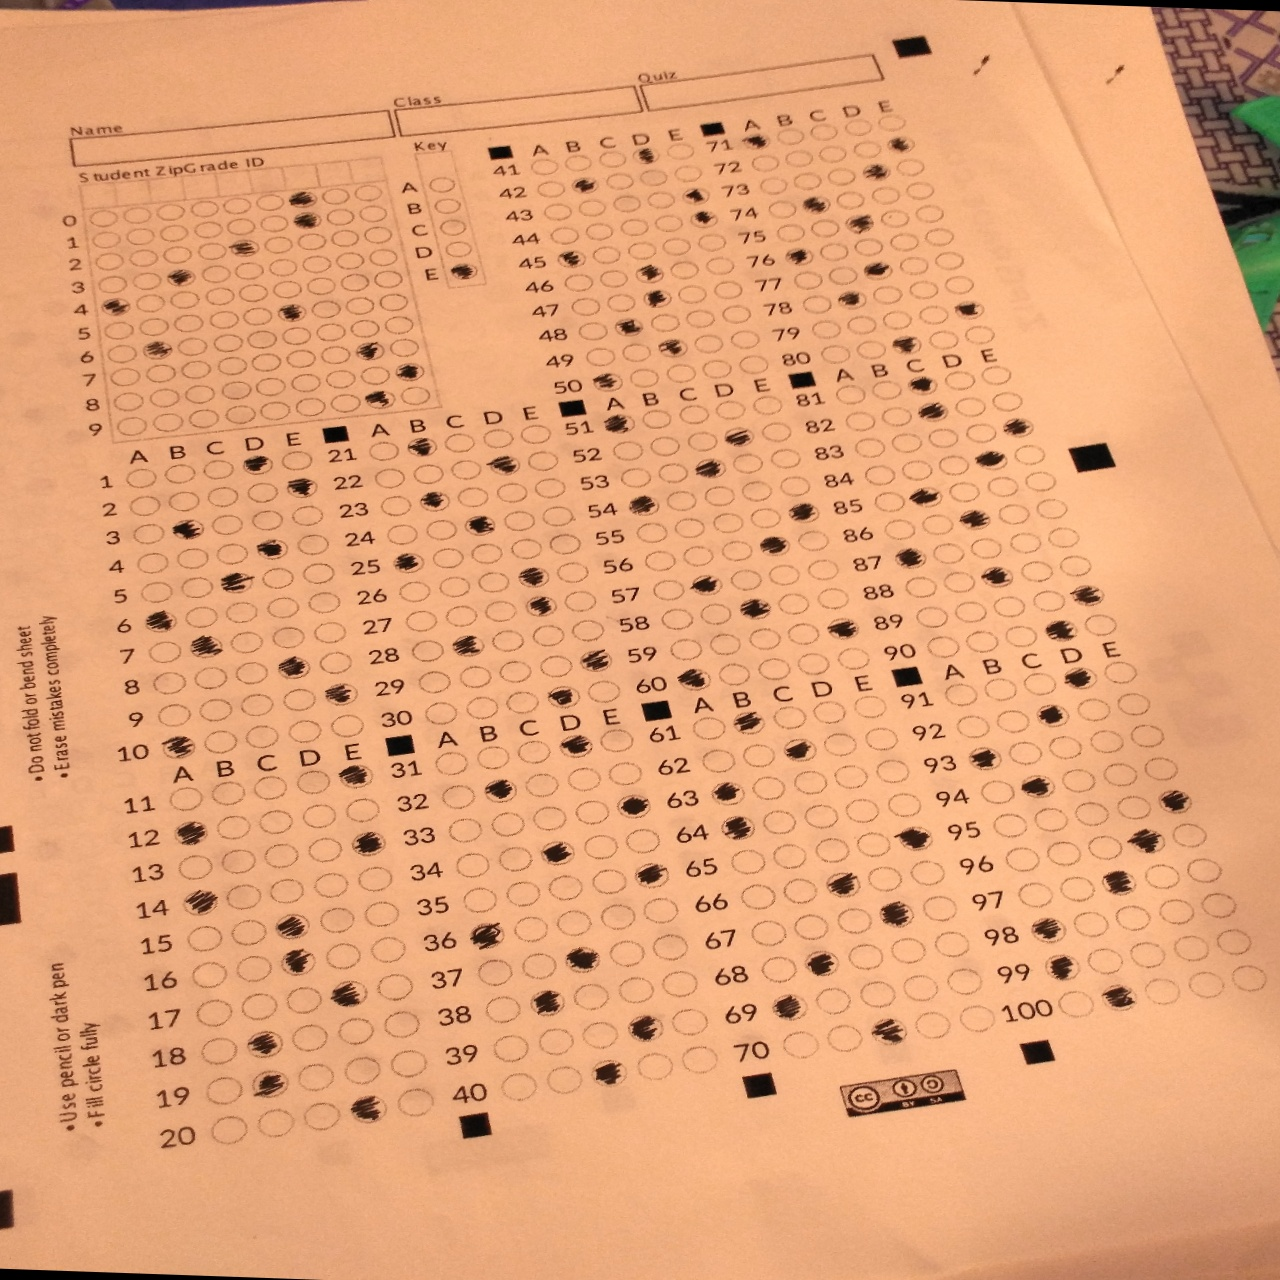not-c: (606, 938, 649, 969), (614, 973, 658, 1005), (536, 1026, 579, 1057), (668, 1006, 712, 1037), (293, 1061, 336, 1092), (184, 922, 227, 954), (333, 1016, 377, 1047), (649, 932, 692, 964), (568, 980, 611, 1012), (394, 1085, 436, 1117), (238, 992, 280, 1023), (207, 1115, 250, 1146), (188, 959, 230, 990), (222, 881, 264, 913), (304, 836, 346, 867), (297, 801, 339, 832), (248, 772, 291, 804), (293, 765, 335, 797), (659, 968, 702, 999), (489, 1033, 532, 1063), (679, 1044, 722, 1075), (388, 1049, 431, 1080), (379, 1009, 422, 1040), (374, 971, 417, 1001), (360, 899, 403, 930), (354, 865, 397, 896), (217, 847, 260, 878), (163, 784, 206, 815), (856, 979, 899, 1009), (942, 967, 986, 998), (316, 903, 358, 934), (256, 1108, 297, 1139), (256, 806, 297, 838), (579, 1020, 621, 1050), (634, 1051, 676, 1082), (542, 1064, 584, 1095), (496, 1071, 538, 1102), (309, 869, 352, 899), (282, 985, 325, 1015), (342, 1056, 384, 1087), (301, 1099, 343, 1130), (204, 1076, 246, 1107), (229, 918, 271, 948), (266, 874, 308, 905), (261, 840, 304, 871), (1170, 932, 1212, 962), (812, 986, 855, 1016), (930, 930, 972, 960), (747, 917, 789, 947), (790, 912, 832, 942), (1185, 969, 1228, 999), (1141, 976, 1184, 1006), (844, 942, 887, 972), (324, 940, 365, 971), (195, 999, 236, 1029), (234, 953, 275, 983), (1126, 939, 1167, 969), (908, 858, 949, 888), (481, 995, 523, 1024), (366, 935, 408, 965), (290, 1023, 332, 1053), (197, 1036, 239, 1065), (342, 797, 384, 826), (211, 812, 253, 842), (1084, 946, 1126, 975), (1227, 964, 1269, 993), (956, 1003, 999, 1033), (822, 1024, 864, 1054), (779, 1030, 822, 1060), (899, 973, 941, 1002), (757, 954, 799, 983), (919, 894, 961, 924), (864, 863, 906, 892), (911, 1012, 954, 1040), (597, 726, 636, 756), (173, 852, 215, 881), (207, 779, 248, 809), (1054, 988, 1095, 1017), (835, 907, 876, 937), (887, 935, 930, 964), (641, 896, 680, 926), (461, 885, 501, 914), (779, 877, 821, 905), (850, 693, 891, 721), (504, 878, 542, 908), (474, 743, 512, 772), (515, 738, 553, 768), (522, 770, 560, 799), (530, 804, 568, 833), (573, 798, 612, 828), (519, 951, 558, 980), (588, 867, 628, 896), (564, 765, 604, 794), (1032, 806, 1071, 835), (990, 812, 1030, 840), (1003, 845, 1043, 873), (1142, 863, 1182, 891), (1057, 874, 1097, 903), (883, 791, 922, 819), (873, 758, 913, 787), (740, 742, 779, 770), (1112, 795, 1153, 822), (1156, 898, 1197, 925), (799, 803, 840, 830), (769, 704, 810, 731), (547, 873, 585, 903), (496, 845, 535, 873), (489, 810, 527, 838), (583, 833, 621, 862), (605, 760, 644, 788), (599, 903, 638, 931), (476, 958, 515, 986), (749, 774, 788, 802), (622, 828, 662, 855), (1099, 761, 1139, 788), (1073, 801, 1112, 828), (978, 779, 1017, 806), (1043, 840, 1083, 867), (1169, 821, 1208, 847), (1014, 881, 1054, 908), (1070, 911, 1110, 938), (770, 843, 810, 870), (812, 837, 852, 864), (855, 831, 894, 858), (760, 809, 799, 836), (862, 726, 901, 753), (699, 747, 738, 774), (689, 715, 729, 742), (810, 699, 850, 726), (1141, 755, 1182, 781), (964, 628, 1001, 656), (1002, 622, 1040, 651), (707, 629, 744, 658), (745, 625, 783, 653), (554, 908, 592, 937), (513, 915, 551, 944), (659, 607, 697, 634), (1058, 767, 1097, 794), (1184, 856, 1223, 883), (790, 768, 829, 795), (941, 681, 981, 707), (1085, 728, 1125, 754), (1084, 835, 1124, 860), (1114, 904, 1153, 930), (1199, 892, 1239, 918), (738, 883, 778, 908), (729, 849, 769, 874), (842, 798, 881, 824), (831, 763, 871, 789), (756, 656, 794, 683), (715, 660, 753, 687), (765, 561, 803, 588), (475, 568, 512, 595), (530, 622, 567, 649), (285, 719, 322, 745), (237, 692, 274, 719), (318, 651, 355, 678), (401, 608, 440, 634), (268, 625, 307, 651), (148, 640, 186, 666), (305, 590, 343, 615), (1020, 670, 1058, 696), (1128, 722, 1166, 748), (1216, 928, 1254, 954), (821, 731, 859, 757), (1073, 697, 1112, 722), (835, 645, 871, 672), (668, 636, 704, 663), (663, 486, 700, 513), (479, 425, 516, 452), (383, 522, 420, 549), (457, 663, 493, 690), (925, 633, 962, 659), (795, 652, 832, 678), (784, 621, 822, 647), (815, 586, 852, 612), (796, 527, 833, 553), (640, 549, 678, 574), (719, 539, 756, 565), (709, 511, 747, 537), (775, 474, 812, 499), (672, 515, 709, 540), (633, 520, 670, 546), (654, 461, 692, 486), (645, 433, 682, 458), (767, 445, 804, 471), (712, 396, 749, 422), (639, 406, 676, 431), (365, 438, 402, 464), (447, 457, 484, 483), (493, 481, 531, 506), (455, 484, 492, 510), (546, 531, 584, 557), (508, 536, 545, 561), (468, 542, 505, 567), (429, 544, 467, 570), (435, 574, 472, 600), (443, 602, 481, 628), (503, 690, 540, 716), (481, 600, 518, 626), (570, 618, 607, 644), (311, 619, 348, 645), (229, 629, 266, 655), (184, 604, 222, 629), (223, 600, 260, 626), (263, 595, 300, 621), (301, 560, 339, 586), (136, 550, 173, 576), (130, 520, 168, 546), (125, 493, 163, 519), (121, 465, 158, 491), (161, 461, 198, 486), (207, 513, 245, 539), (204, 484, 241, 510), (279, 448, 316, 474), (248, 508, 286, 533), (447, 817, 484, 843), (455, 852, 492, 878), (1114, 692, 1152, 716), (981, 676, 1020, 701), (953, 714, 992, 738), (993, 709, 1032, 734), (1046, 735, 1084, 760), (697, 600, 734, 626), (805, 557, 842, 583), (651, 578, 687, 604), (729, 452, 765, 478), (617, 465, 653, 491), (683, 429, 720, 455), (757, 420, 794, 445), (750, 393, 787, 418), (675, 401, 712, 427), (518, 421, 554, 447), (409, 461, 445, 486), (501, 509, 537, 535), (539, 504, 576, 530), (561, 588, 598, 614), (586, 679, 622, 704), (410, 638, 447, 663), (192, 666, 229, 692), (178, 576, 215, 601), (165, 489, 202, 515), (173, 545, 210, 571), (213, 542, 250, 567), (290, 502, 326, 527), (295, 532, 332, 558), (775, 592, 812, 617), (727, 567, 764, 592), (679, 544, 716, 568), (701, 484, 738, 509), (738, 479, 776, 504), (747, 506, 784, 531), (610, 440, 647, 464), (441, 430, 478, 455), (524, 449, 561, 474), (531, 477, 568, 502), (377, 493, 415, 518), (397, 579, 435, 604), (463, 694, 501, 719), (497, 660, 535, 685), (490, 629, 527, 654), (538, 654, 576, 679), (415, 669, 452, 694), (280, 688, 318, 713), (243, 726, 280, 750), (202, 730, 239, 755), (196, 697, 233, 722), (151, 670, 189, 695), (155, 704, 192, 729), (139, 579, 177, 604), (241, 479, 279, 504), (440, 783, 477, 808), (1005, 741, 1042, 765), (926, 425, 961, 451), (941, 570, 976, 595), (985, 475, 1021, 499), (903, 574, 939, 599), (1083, 612, 1119, 636), (372, 465, 408, 490), (424, 518, 461, 543), (554, 560, 591, 585), (423, 701, 459, 726), (329, 714, 366, 738), (233, 662, 270, 687), (260, 566, 297, 591), (200, 456, 237, 481), (433, 750, 469, 775), (937, 454, 971, 479), (318, 343, 353, 368), (1034, 496, 1069, 520), (888, 431, 924, 456), (869, 379, 904, 403), (833, 382, 869, 407), (842, 408, 877, 433), (878, 406, 913, 430), (953, 599, 988, 624), (992, 595, 1027, 620), (1032, 588, 1067, 613), (914, 604, 949, 628), (1101, 660, 1136, 685), (818, 341, 855, 365), (979, 363, 1015, 387), (930, 540, 966, 564), (946, 481, 982, 504), (900, 458, 937, 482), (952, 396, 988, 420), (862, 462, 896, 486), (347, 316, 382, 340), (617, 217, 652, 240), (574, 196, 610, 219), (869, 282, 904, 306), (1022, 470, 1057, 493), (1044, 525, 1080, 549), (881, 518, 917, 542), (996, 502, 1032, 525), (852, 436, 887, 459), (964, 422, 999, 445), (942, 368, 978, 392), (1012, 444, 1048, 467), (1017, 560, 1054, 583), (919, 513, 955, 536), (108, 366, 142, 389), (253, 375, 287, 399), (688, 207, 722, 231), (710, 279, 744, 302), (719, 302, 753, 326), (1008, 530, 1042, 553), (314, 322, 349, 345), (647, 312, 682, 334), (597, 268, 632, 291), (675, 282, 710, 305), (810, 318, 845, 340), (941, 273, 976, 295), (990, 390, 1026, 413), (1057, 554, 1092, 577), (969, 538, 1005, 560), (131, 268, 164, 292), (171, 312, 204, 335), (290, 372, 324, 394), (324, 369, 358, 392), (343, 294, 377, 316), (309, 299, 343, 321), (304, 275, 338, 298), (333, 248, 367, 271), (198, 263, 232, 285), (237, 282, 271, 305), (271, 278, 305, 300), (102, 319, 136, 341), (244, 328, 278, 350), (284, 347, 318, 369), (151, 411, 185, 434), (561, 271, 595, 293), (692, 333, 726, 355), (683, 308, 717, 331), (651, 212, 685, 234), (659, 234, 693, 257), (625, 240, 659, 263), (667, 260, 701, 282), (645, 189, 679, 211), (636, 166, 670, 189), (670, 163, 704, 185), (602, 171, 636, 193), (610, 192, 644, 215), (561, 152, 595, 175), (906, 279, 940, 301), (855, 338, 888, 360), (872, 491, 906, 513), (568, 175, 602, 197), (629, 144, 663, 166), (590, 244, 624, 266), (300, 254, 335, 275), (205, 309, 240, 331), (851, 237, 886, 258), (791, 270, 826, 291), (844, 315, 879, 336), (962, 324, 998, 345), (927, 329, 962, 350), (680, 186, 715, 207), (361, 223, 394, 245), (377, 291, 410, 313), (338, 271, 370, 293), (233, 260, 266, 282), (97, 273, 130, 295), (210, 332, 243, 354), (280, 325, 313, 347), (145, 362, 178, 384), (219, 379, 252, 401), (188, 408, 220, 430), (115, 416, 148, 438), (442, 238, 475, 260), (584, 346, 617, 368), (700, 358, 733, 380), (604, 292, 636, 314), (695, 231, 728, 253), (93, 251, 127, 272), (350, 183, 384, 204), (372, 268, 406, 290), (399, 384, 433, 406), (294, 396, 328, 417), (203, 285, 237, 306), (132, 292, 166, 313), (105, 343, 139, 365), (179, 359, 213, 380), (148, 387, 182, 408), (182, 383, 216, 404), (258, 400, 292, 421), (223, 404, 257, 425), (619, 342, 653, 363), (627, 367, 661, 388), (663, 363, 697, 384), (583, 222, 617, 243), (703, 256, 737, 277), (922, 227, 956, 248), (887, 232, 921, 253), (817, 241, 851, 263), (801, 293, 835, 314), (880, 309, 914, 331), (932, 251, 966, 272), (597, 148, 628, 170), (791, 170, 823, 192), (871, 184, 903, 206), (263, 234, 295, 256), (295, 231, 328, 252), (319, 186, 352, 207), (329, 393, 362, 414), (267, 257, 300, 278), (169, 288, 202, 309), (138, 316, 171, 338), (241, 306, 274, 327), (175, 335, 207, 356), (250, 350, 282, 372), (216, 355, 248, 376), (425, 173, 458, 195), (431, 196, 464, 217), (542, 202, 574, 223), (737, 355, 770, 376), (774, 125, 806, 147), (874, 113, 907, 134), (826, 265, 859, 286), (917, 304, 949, 325), (828, 165, 858, 188), (125, 248, 159, 268), (159, 245, 193, 265), (195, 241, 229, 261), (111, 392, 145, 411), (436, 217, 470, 237), (527, 157, 561, 177), (547, 226, 581, 246), (576, 322, 610, 342), (775, 222, 806, 243), (809, 219, 840, 240), (87, 209, 120, 229), (253, 193, 286, 213), (328, 229, 361, 248), (358, 204, 390, 224), (324, 207, 356, 227), (367, 247, 400, 267), (382, 315, 415, 335), (388, 338, 421, 358), (359, 365, 392, 384), (535, 179, 567, 199), (570, 297, 602, 316), (728, 331, 761, 350), (663, 141, 696, 161), (904, 181, 937, 200), (897, 256, 930, 275), (817, 143, 847, 164), (758, 176, 789, 197), (896, 157, 926, 178), (879, 207, 910, 229), (914, 203, 945, 224), (154, 203, 188, 222), (192, 220, 226, 239), (222, 196, 253, 216), (125, 227, 157, 247), (808, 121, 839, 141), (842, 118, 873, 138), (852, 139, 884, 159), (782, 149, 813, 169), (765, 199, 797, 219), (189, 199, 222, 218), (258, 215, 291, 233), (91, 230, 124, 248), (750, 154, 781, 173), (835, 190, 865, 210), (226, 217, 258, 236), (120, 207, 152, 225), (158, 225, 190, 243)
taken-c: (243, 1027, 287, 1061), (346, 1092, 390, 1126), (248, 1065, 292, 1099), (588, 1056, 631, 1090), (622, 1013, 666, 1046), (527, 987, 571, 1020), (560, 944, 604, 976), (767, 990, 811, 1022), (467, 920, 509, 953), (821, 870, 864, 901), (1041, 952, 1084, 983), (329, 978, 370, 1010), (799, 947, 843, 978), (1026, 915, 1069, 946), (1126, 828, 1170, 858), (1155, 785, 1198, 816), (278, 946, 318, 979), (874, 900, 919, 930), (537, 838, 579, 869), (554, 731, 597, 762), (867, 1017, 910, 1048), (1097, 982, 1141, 1012), (1097, 867, 1141, 897), (272, 912, 313, 942), (481, 776, 522, 806), (613, 794, 655, 823), (577, 646, 619, 675), (447, 632, 489, 661), (543, 685, 586, 713), (894, 824, 934, 855), (631, 862, 673, 890), (350, 830, 390, 859), (708, 779, 748, 809), (965, 745, 1005, 774), (181, 888, 222, 915), (717, 813, 758, 840), (888, 544, 930, 571), (952, 508, 993, 535), (170, 819, 209, 847), (729, 709, 768, 737), (1017, 772, 1056, 801), (1062, 663, 1101, 692), (1032, 701, 1071, 728), (978, 564, 1017, 591), (972, 448, 1012, 475), (522, 593, 560, 620), (515, 565, 553, 592), (485, 452, 524, 479), (782, 737, 821, 764), (1043, 617, 1082, 644), (915, 399, 954, 425), (905, 485, 945, 511), (1069, 583, 1108, 608), (998, 416, 1037, 441), (390, 549, 427, 576), (218, 570, 256, 595), (143, 608, 181, 634), (159, 734, 197, 760), (459, 515, 497, 540), (406, 435, 443, 461), (721, 423, 758, 449), (824, 617, 862, 642), (674, 666, 712, 692), (904, 374, 942, 399), (416, 489, 452, 515), (189, 635, 226, 660), (321, 682, 359, 707), (339, 763, 376, 788), (588, 370, 626, 395), (654, 336, 692, 361), (625, 493, 662, 518), (688, 573, 726, 598), (858, 159, 896, 184), (253, 537, 290, 561), (273, 656, 309, 681), (600, 411, 636, 436), (692, 456, 728, 481), (785, 501, 822, 525), (757, 533, 794, 558), (736, 595, 772, 620), (888, 333, 925, 358), (170, 518, 207, 542), (949, 298, 987, 321), (858, 259, 896, 282), (638, 287, 673, 312), (553, 246, 588, 271), (610, 316, 646, 340), (779, 245, 816, 268), (883, 132, 919, 156), (633, 263, 667, 287), (363, 388, 399, 411), (285, 476, 320, 499), (552, 246, 587, 270), (833, 290, 870, 312), (840, 212, 877, 234), (240, 452, 274, 476), (797, 195, 835, 216), (165, 266, 198, 290), (275, 301, 309, 324), (352, 340, 386, 362), (392, 360, 425, 382), (286, 188, 319, 210), (448, 260, 481, 282), (141, 339, 173, 361), (738, 130, 771, 152), (292, 209, 324, 231), (229, 237, 260, 259), (101, 295, 132, 316)
